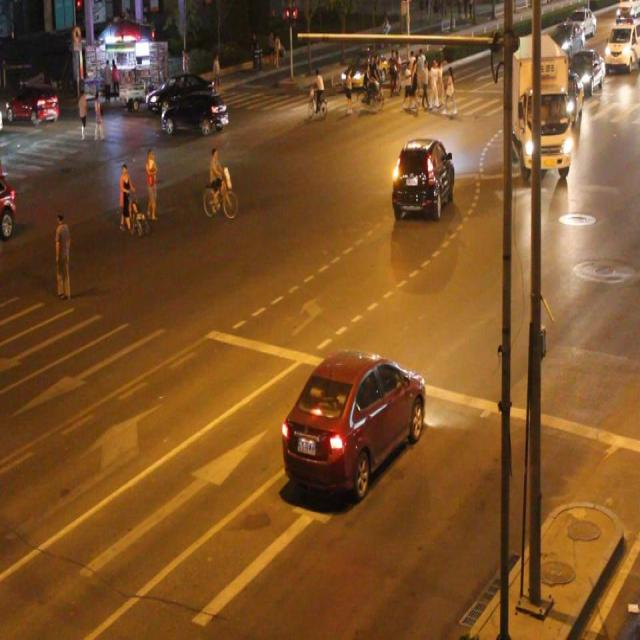bus: (507, 36, 570, 173)
car: (280, 349, 425, 489), (394, 136, 453, 216), (162, 89, 227, 137), (147, 74, 214, 112), (550, 72, 580, 116), (1, 170, 14, 237)
